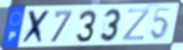3: (75, 8, 98, 43), (100, 7, 122, 43)
5: (149, 6, 173, 41)
7: (50, 9, 75, 45)
X: (20, 9, 52, 46)
Z: (121, 7, 152, 42)
